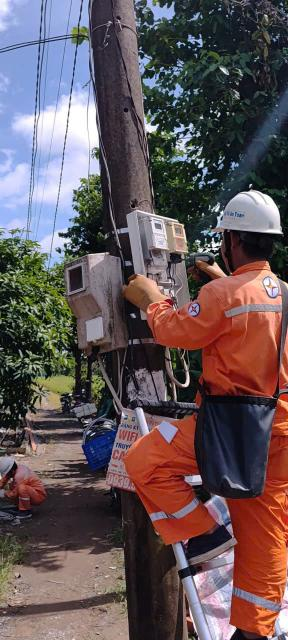gloves: (113, 267, 174, 320), (177, 257, 239, 293)
helmet: (200, 186, 286, 255)
shoes: (150, 520, 243, 560)
